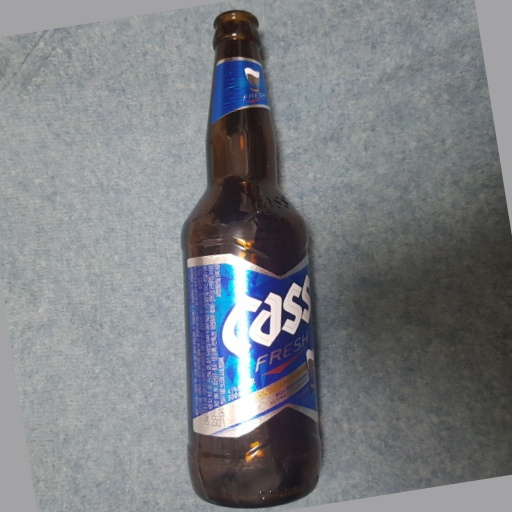Glass_1: (180, 7, 331, 504)
